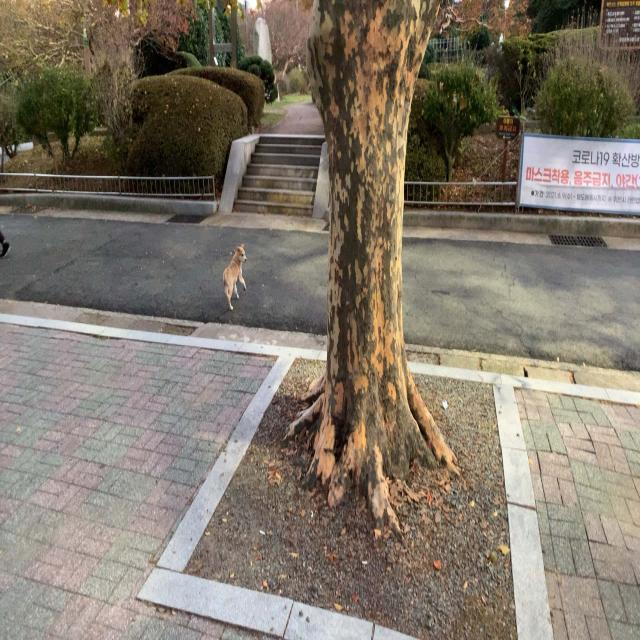Dog: (223, 245, 248, 312)
